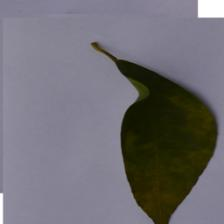greening: (100, 94, 224, 223)
